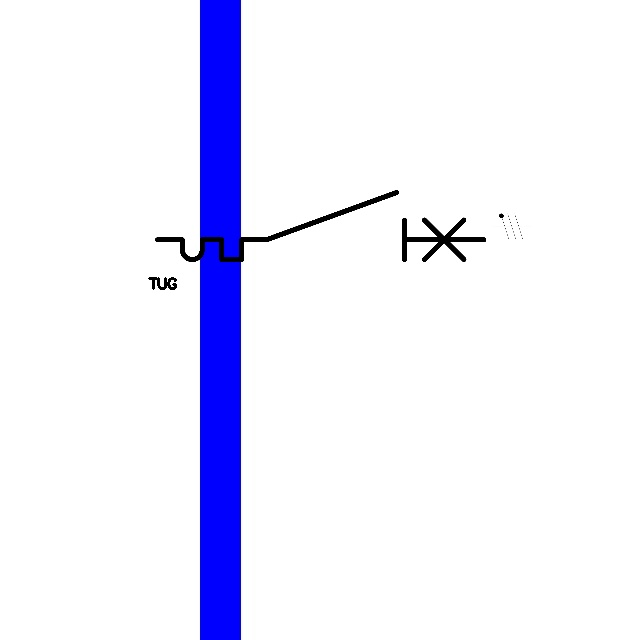interruptor_termomagnetico: (149, 184, 492, 268)
